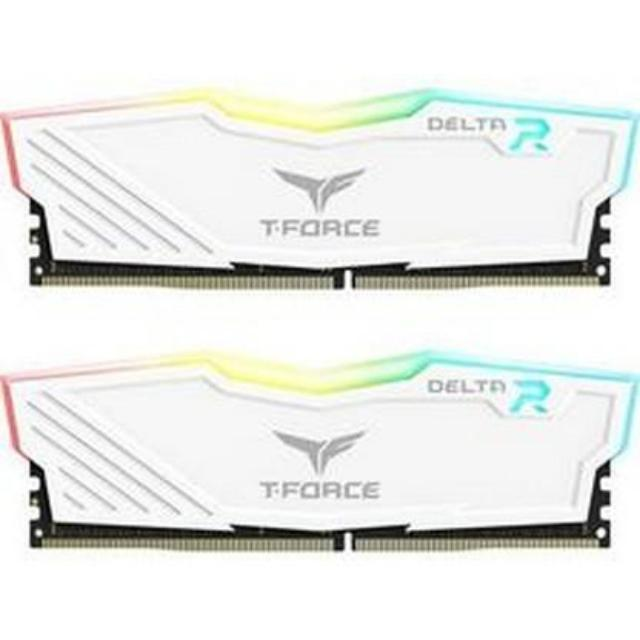RAM: (0, 348, 640, 560), (0, 82, 640, 293)
